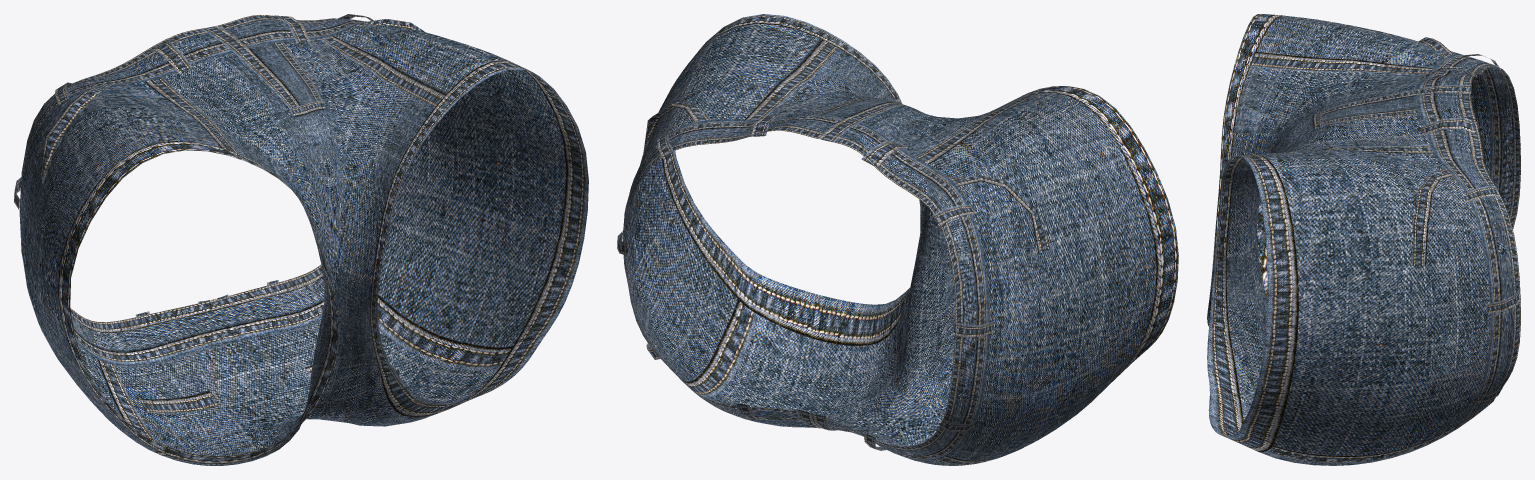
File: Shorts.fbx
The picture shows the model from 3 angles, left to right: view 1: azimuth 30°, elevation 25°; view 2: azimuth 150°, elevation 25°; view 3: azimuth 270°, elevation 25°; orthographic projection. The views are drawn at different scales.
Parts seen in each view (by area): view 1: Object_2; view 2: Object_2; view 3: Object_2.
Part boxes in pixels (x1,y1,x2,y2): Object_2: [14, 14, 588, 465]; Object_2: [617, 14, 1178, 465]; Object_2: [1207, 14, 1520, 465].
Size of the model in its own units: 477 by 310 by 270.
1 material, 1 textured.
